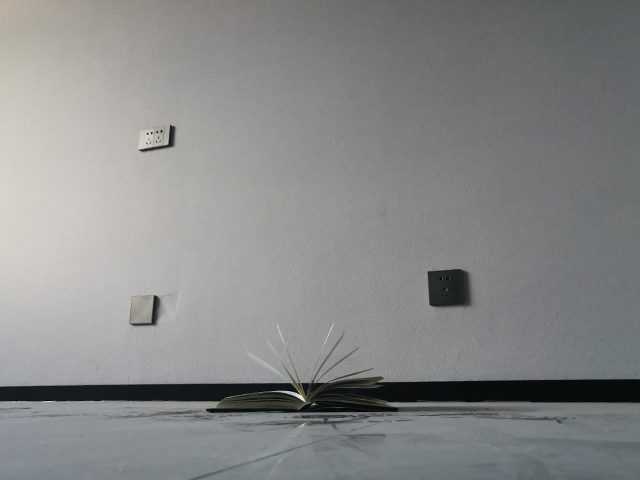book: (205, 321, 403, 415)
